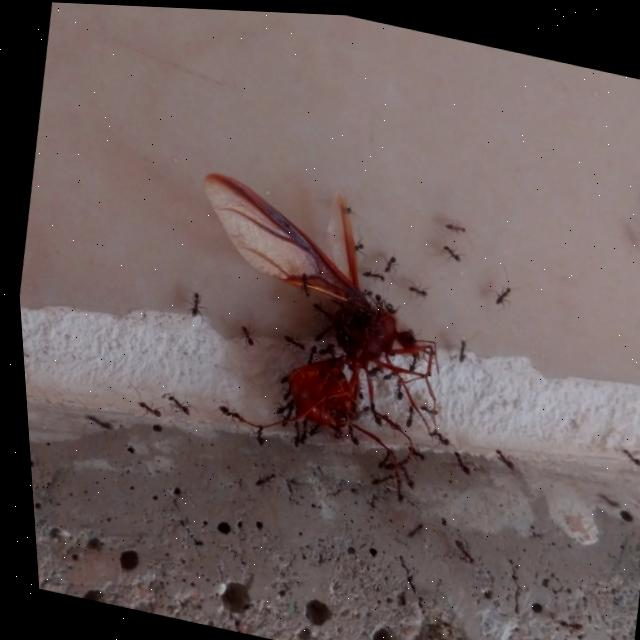Dead-Male-Alate: (154, 158, 471, 501)
